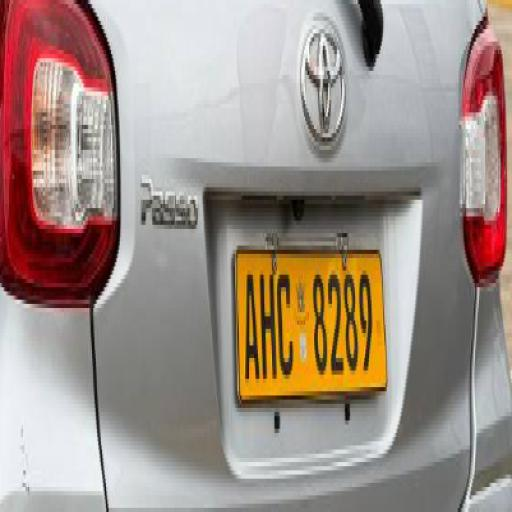number-plates: (234, 234, 389, 402)
